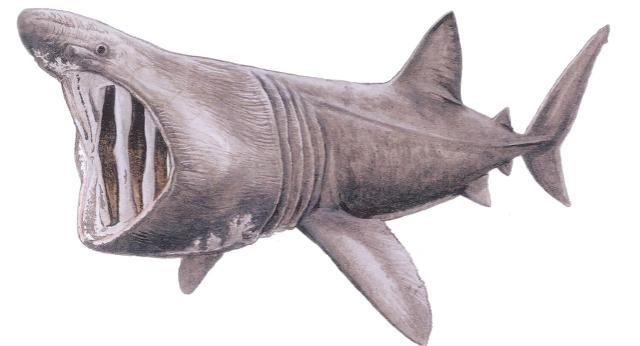Mulut: (34, 55, 188, 272)
Sirip Anal: (490, 100, 522, 186)
Sirip Dada: (176, 204, 440, 344)
Sirip Ekor: (518, 20, 614, 214)
Sirip Perut: (456, 172, 500, 214)
Sirip Punggung: (394, 3, 470, 119)
